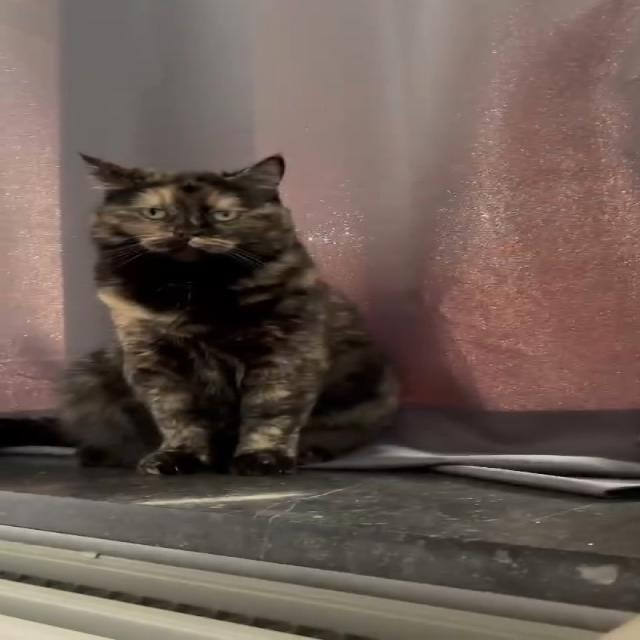authorized: (56, 150, 403, 476)
